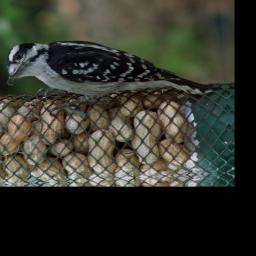Woodpecker: (0, 22, 223, 121)
